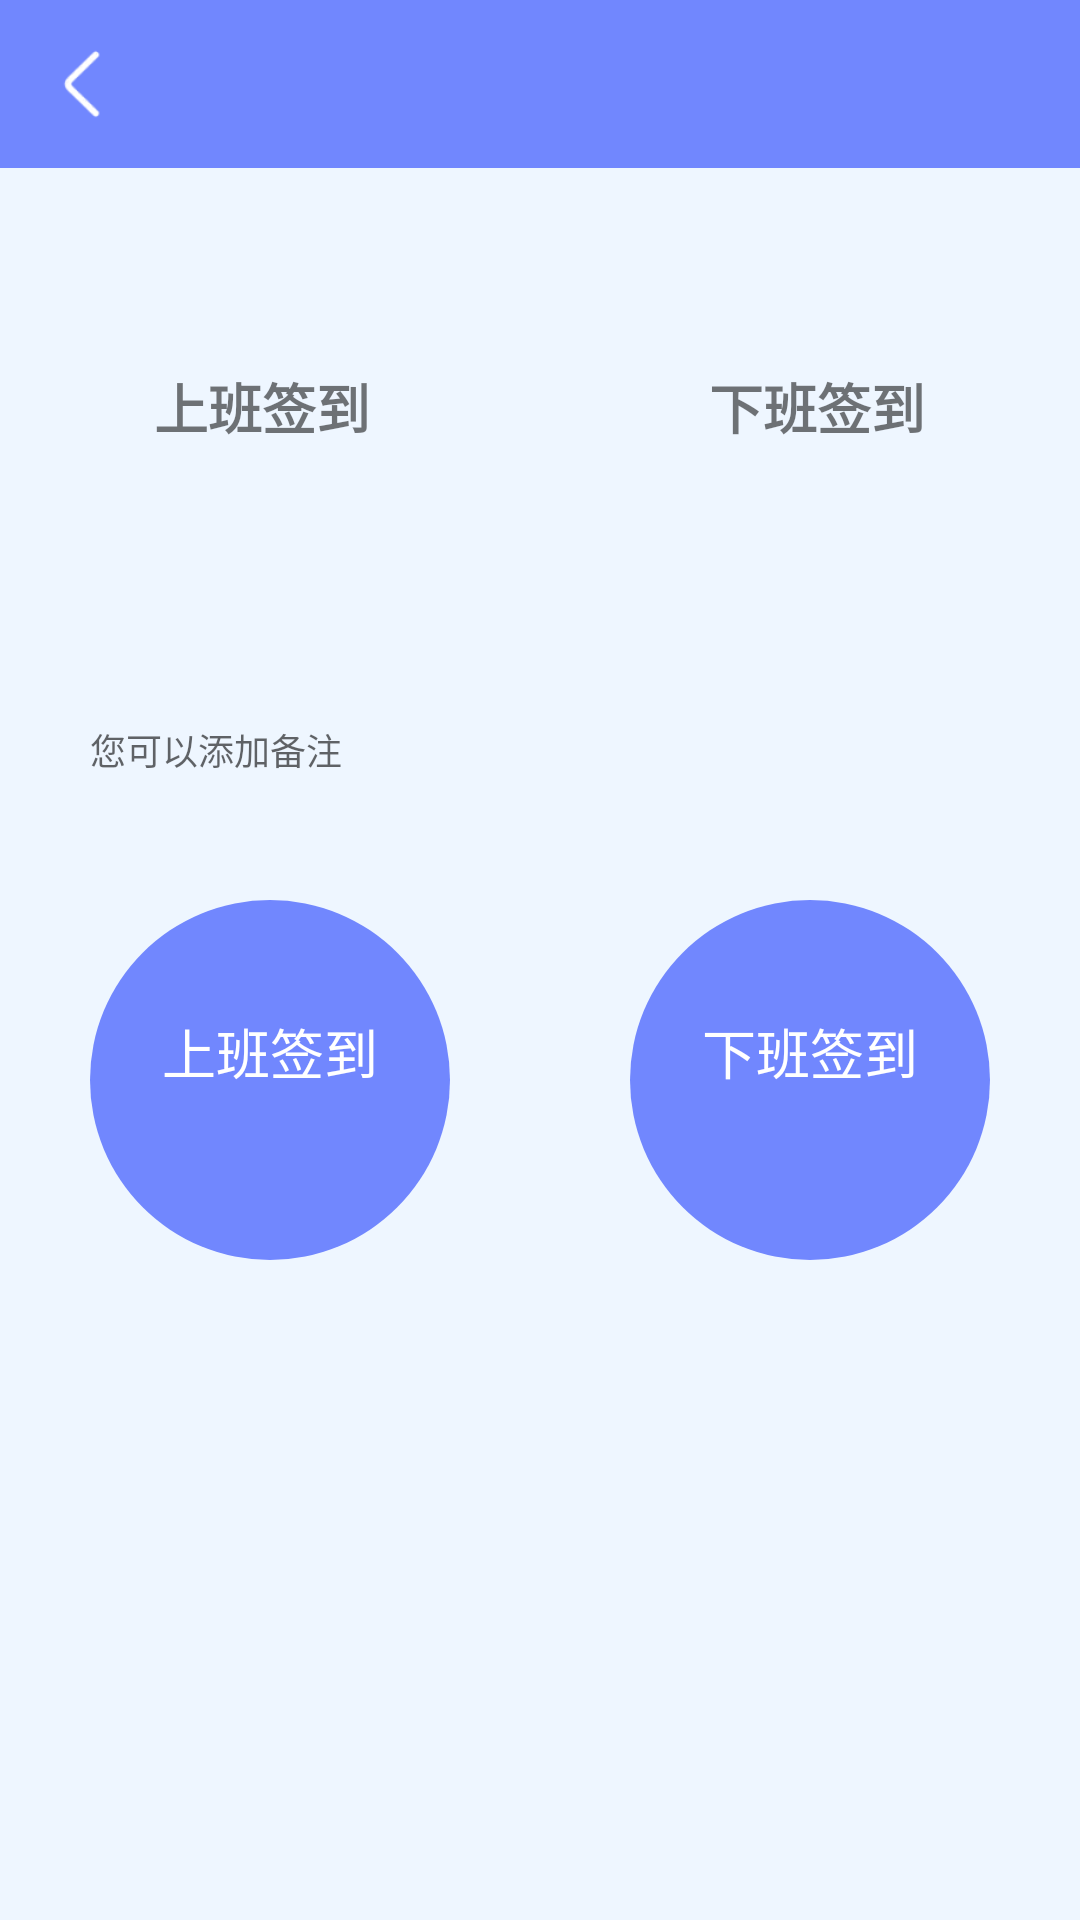

Screen size 1080x1920. Icon name, then its center in pixels as point (x, y):
back: point (82, 84)
